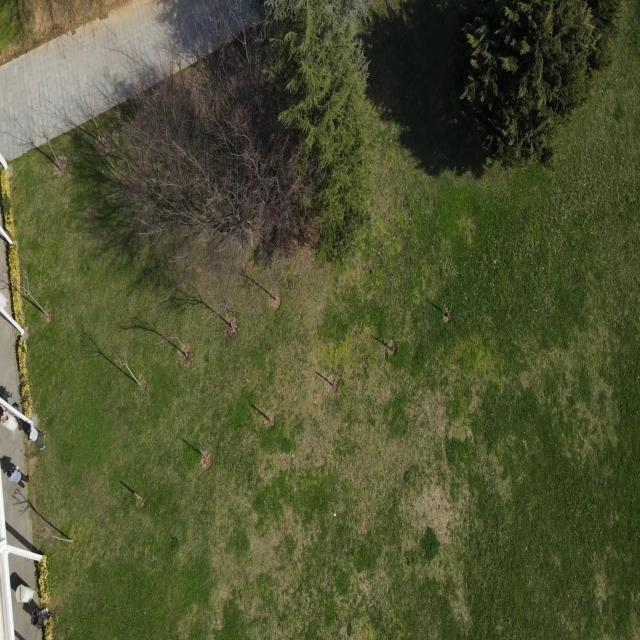p3rson: (25, 424, 46, 453), (7, 464, 31, 489)
